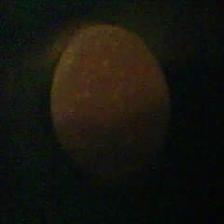fertile: (44, 21, 174, 175)
